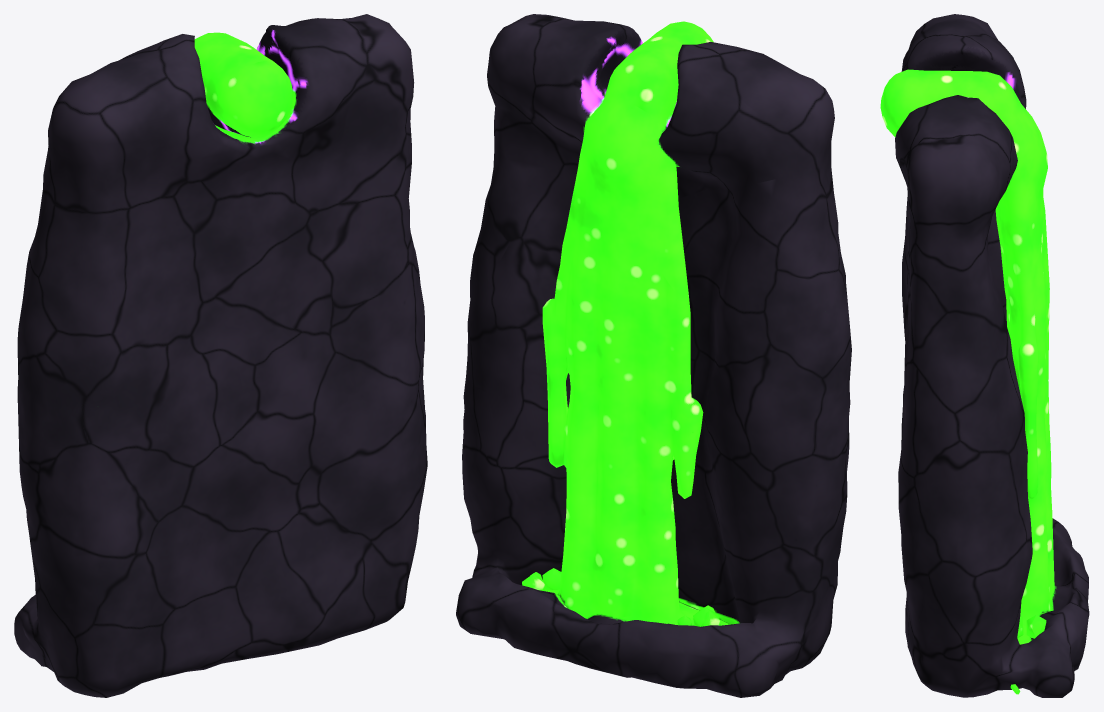
The model's file is cascada_acido.fbx.
3 views of the same model, side by side, from view 1: azimuth 30°, elevation 25°; view 2: azimuth 150°, elevation 25°; view 3: azimuth 270°, elevation 25° (orthographic). The views are drawn at different scales.
Parts seen in each view (by area): view 1: risco, acido_neon; view 2: risco, acido_neon; view 3: risco, acido_neon.
Boxes of the visible parts, <box> form: risco: <box>14,14,427,697</box>; acido_neon: <box>194,32,292,137</box>; risco: <box>456,14,851,697</box>; acido_neon: <box>522,21,729,626</box>; risco: <box>895,14,1089,697</box>; acido_neon: <box>880,69,1054,694</box>.
Size of the model in its own units: 4 by 6 by 2.
1 material, 1 textured.
